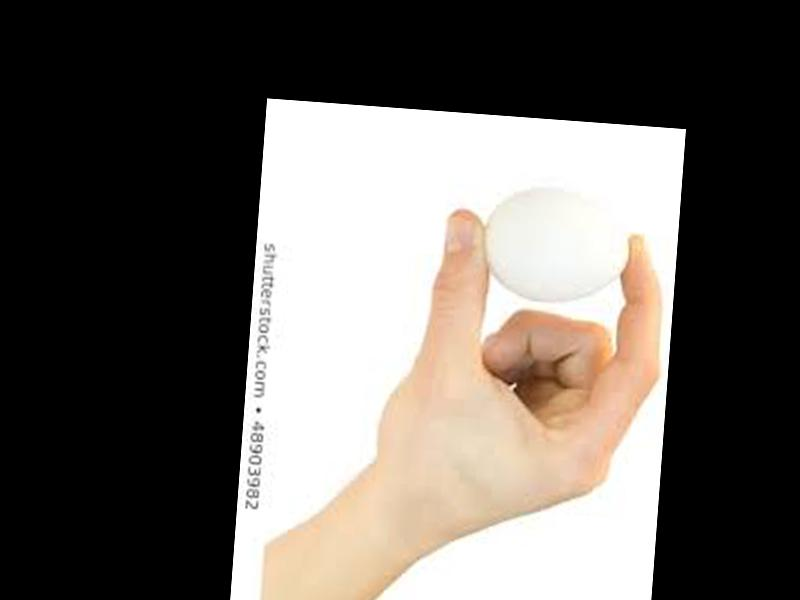Eggs: (478, 186, 632, 308)
